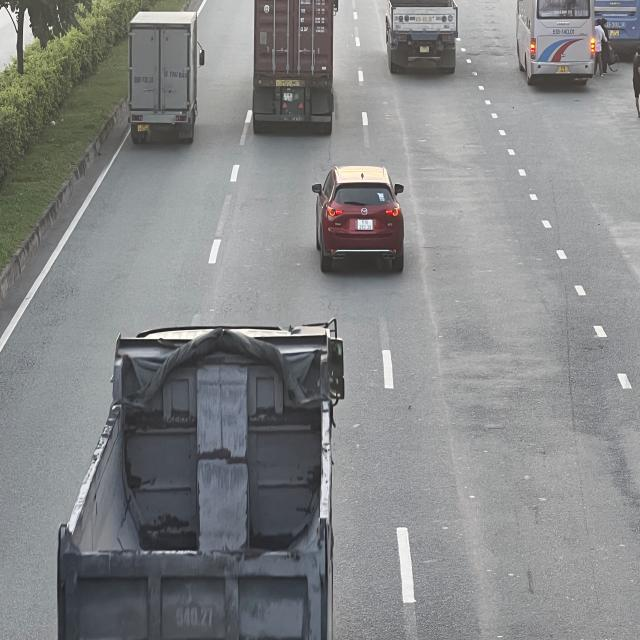car: (312, 165, 406, 275)
coach: (514, 2, 598, 87)
container: (52, 321, 339, 637), (252, 2, 341, 138)
truck: (126, 10, 204, 143), (384, 0, 459, 71)
